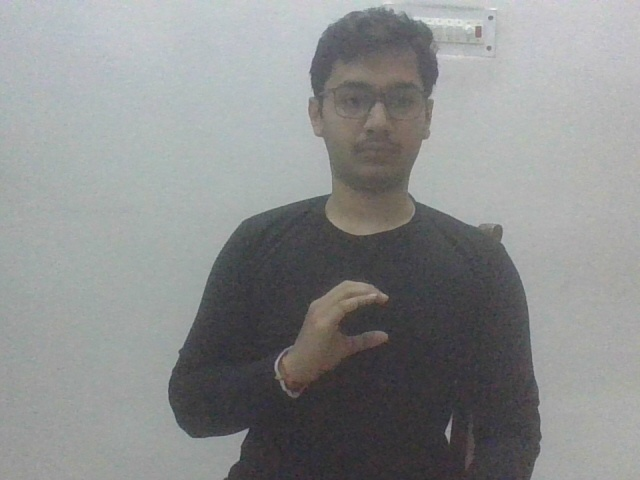C: (294, 277, 396, 384)
